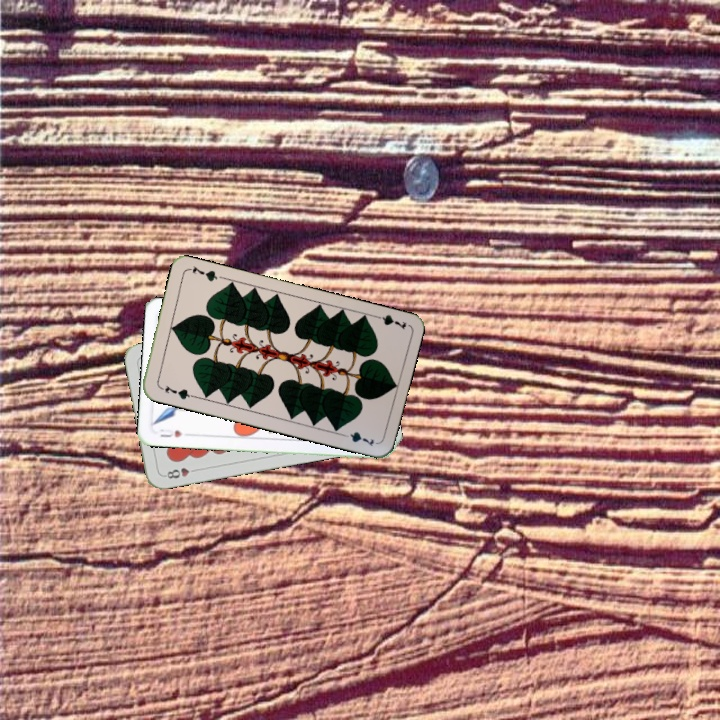G7: (369, 310, 409, 332), (156, 381, 196, 402)
H8: (160, 464, 201, 481)
HU: (156, 425, 185, 440)
